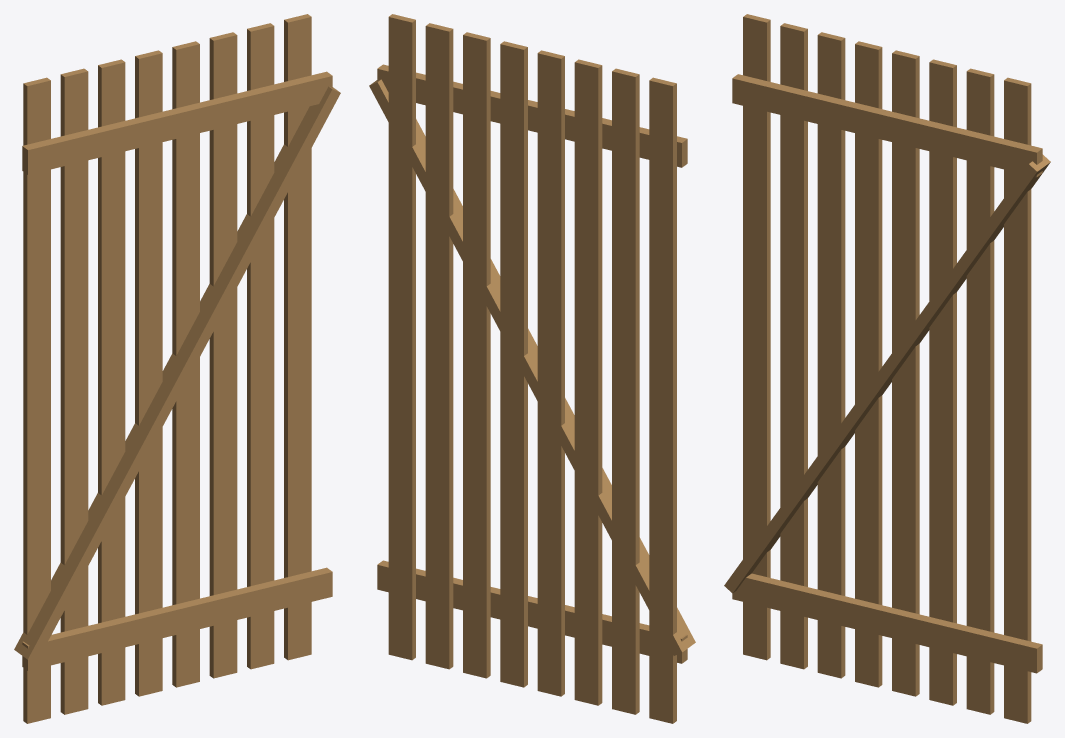
Rendered from boundary.gate.side.glb.
3 renders of one model, left to right at view 1: azimuth 30°, elevation 25°; view 2: azimuth 150°, elevation 25°; view 3: azimuth 330°, elevation 25°, orthographic.
Visible parts, largest first — view 1: main__softwood; view 2: main__softwood; view 3: main__softwood.
Part boxes in pixels (x1,y1,x2,y2): main__softwood: (14, 14, 340, 723); main__softwood: (369, 14, 695, 723); main__softwood: (724, 14, 1050, 723).
Size of the model in its own units: 0.9252 by 1.8 by 0.07.
